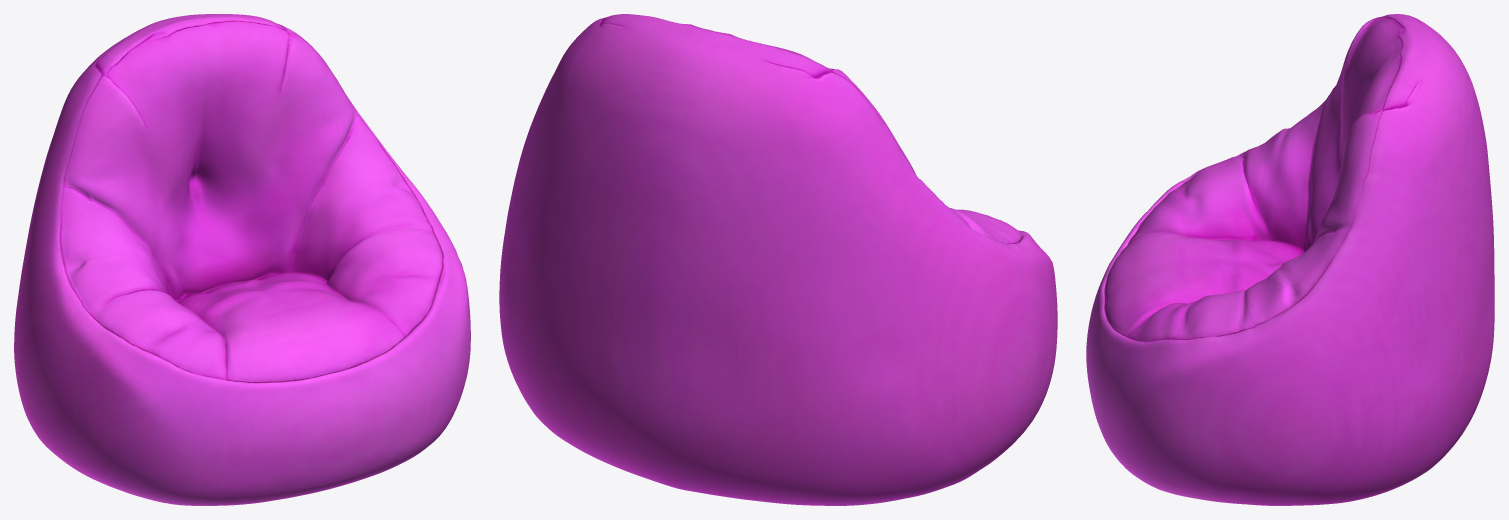
File: beanbag.glb
The picture shows the model from 3 angles, left to right: view 1: azimuth 30°, elevation 25°; view 2: azimuth 150°, elevation 25°; view 3: azimuth 270°, elevation 25°; orthographic projection. The views are drawn at different scales.
Parts seen in each view (by area): view 1: model; view 2: model; view 3: model.
Part boxes in pixels (x1=…): model: x1=14, y1=14, x2=470, y2=505; model: x1=499, y1=14, x2=1057, y2=505; model: x1=1086, y1=14, x2=1494, y2=505.
Size of the model in its own units: 1.9 by 1.69 by 1.58.
Materials: 1 (1 with a texture image).
